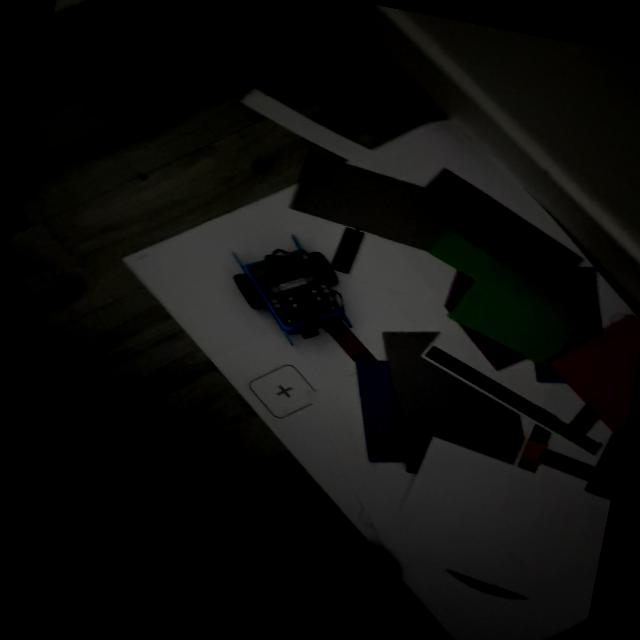mbot-detection: (211, 220, 374, 361)
